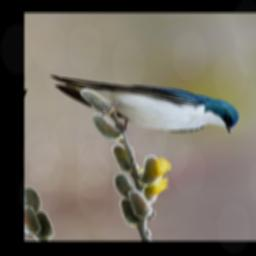Swallow: (46, 49, 245, 157)
